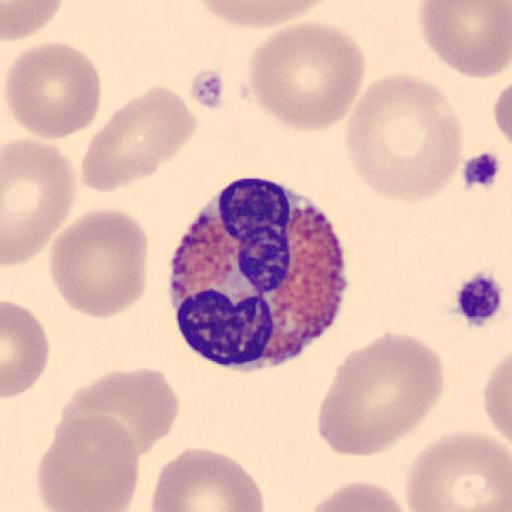Platelet: (452, 269, 506, 329)
RBC: (319, 332, 446, 458), (346, 72, 465, 203), (247, 20, 366, 132), (81, 85, 199, 193), (48, 208, 150, 320), (58, 367, 181, 458), (36, 412, 140, 512), (1, 135, 77, 268), (3, 40, 102, 140), (404, 430, 512, 512), (150, 445, 265, 512), (418, 0, 512, 80), (2, 298, 52, 400), (188, 0, 331, 30), (305, 478, 412, 512), (483, 352, 512, 448), (1, 0, 64, 41), (490, 64, 512, 153), (493, 77, 512, 145)
WBC: (166, 179, 350, 372)
